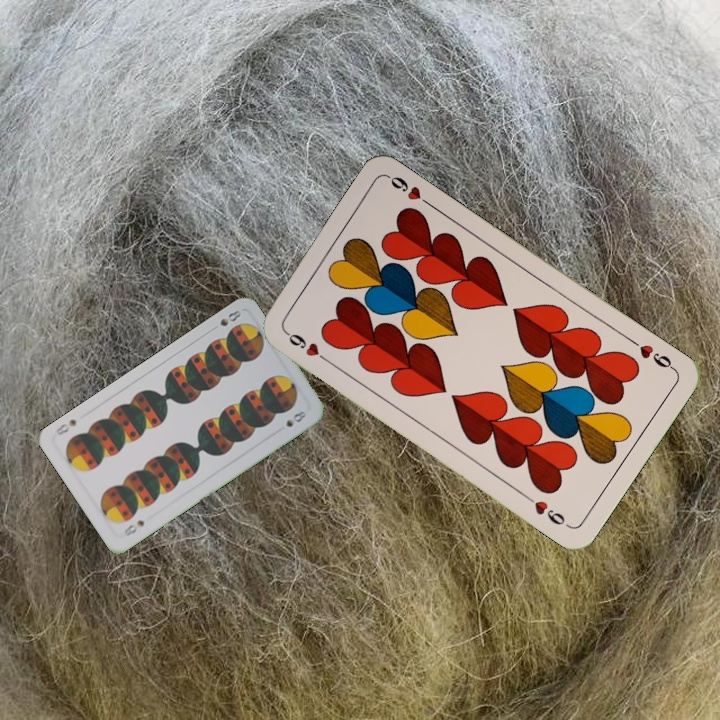H9: (626, 334, 678, 373), (281, 327, 333, 366)
S8: (207, 306, 244, 334), (119, 516, 147, 539)
